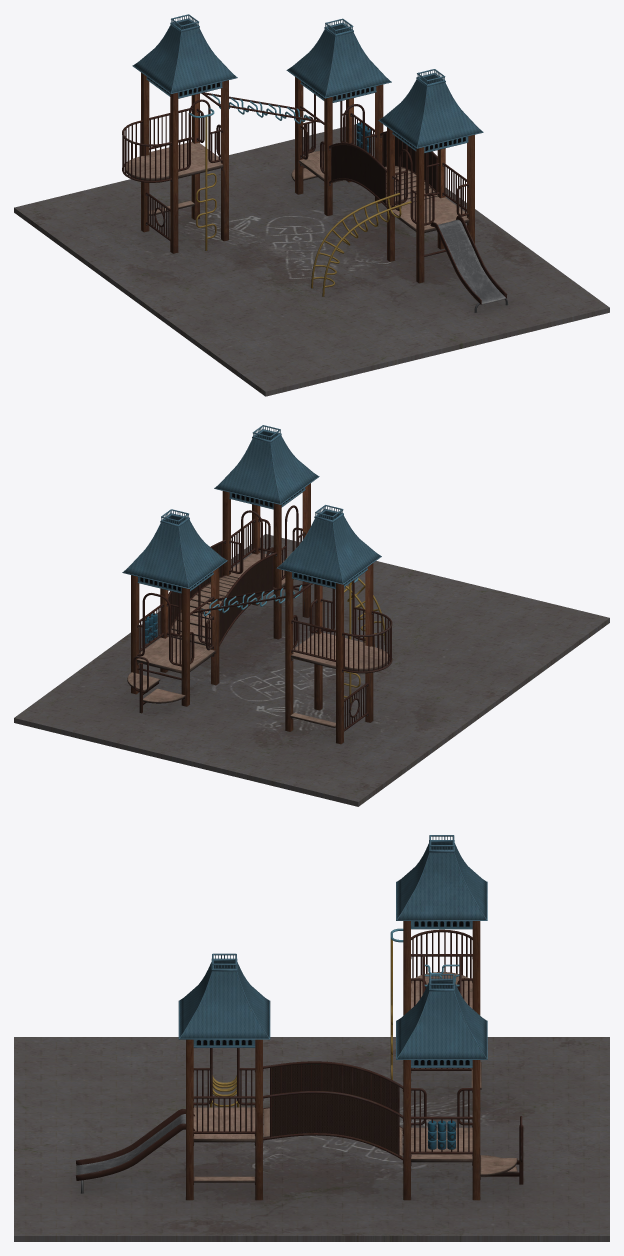
The model's file is Madison_Square_park_playground.fbx.
3 views of the same model, one above another, from view 1: azimuth 30°, elevation 25°; view 2: azimuth 150°, elevation 25°; view 3: azimuth 270°, elevation 25° (orthographic). The views are drawn at different scales.
Parts seen in each view (by area): view 1: desirefx.me_024; view 2: desirefx.me_024; view 3: desirefx.me_024.
Boxes of the visible parts, box(x1,y1,x2,y2) form: desirefx.me_024: box(14, 14, 609, 396); desirefx.me_024: box(14, 425, 609, 806); desirefx.me_024: box(14, 835, 609, 1241).
Size of the model in its own units: 1703 by 1040 by 2155.
Materials: 2 (2 with a texture image).
